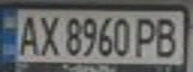0: (112, 15, 133, 57)
6: (96, 14, 115, 57)
8: (60, 14, 84, 57)
9: (78, 14, 100, 57)
A: (12, 11, 42, 56)
B: (151, 14, 184, 58)
P: (133, 15, 160, 58)
X: (33, 12, 60, 57)
